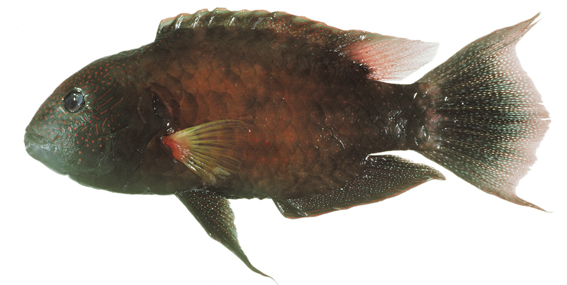fish: (25, 8, 553, 283)
